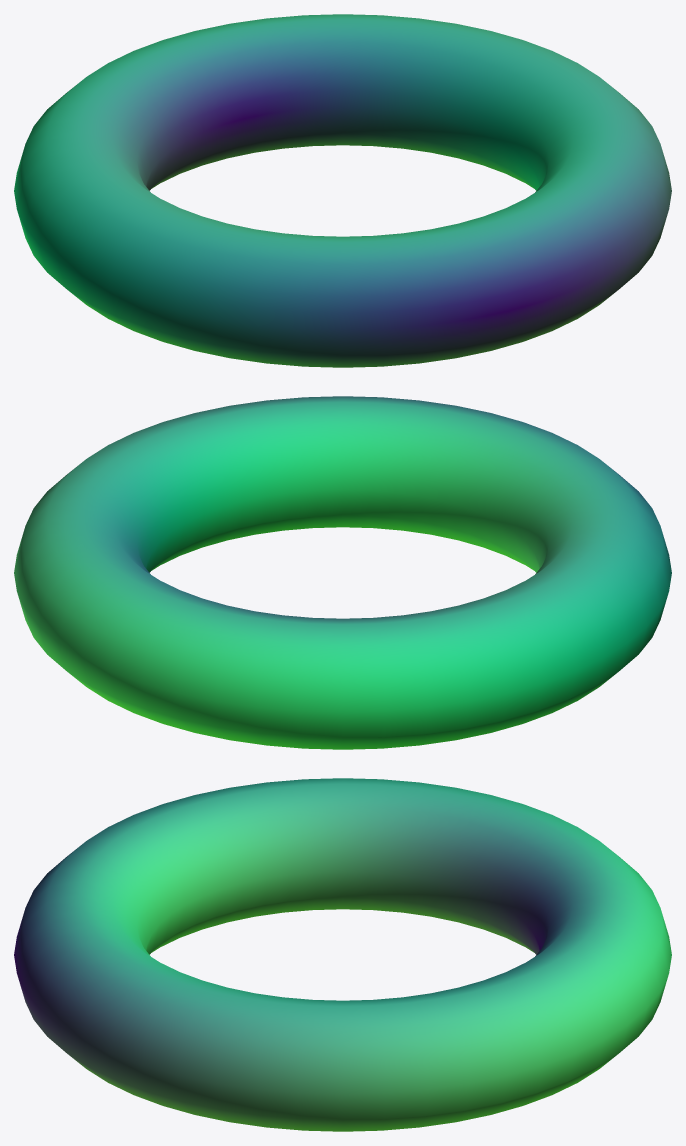
The picture shows the model from 3 angles, top to bottom: view 1: azimuth 30°, elevation 25°; view 2: azimuth 150°, elevation 25°; view 3: azimuth 270°, elevation 25°; orthographic projection.
Parts seen in each view (by area): view 1: Torus; view 2: Torus; view 3: Torus.
Part boxes in pixels (x1,y1,x2,y2): Torus: (14, 14, 671, 367); Torus: (14, 396, 671, 749); Torus: (14, 778, 671, 1131).
Size of the model in its own units: 250 by 50 by 250.
